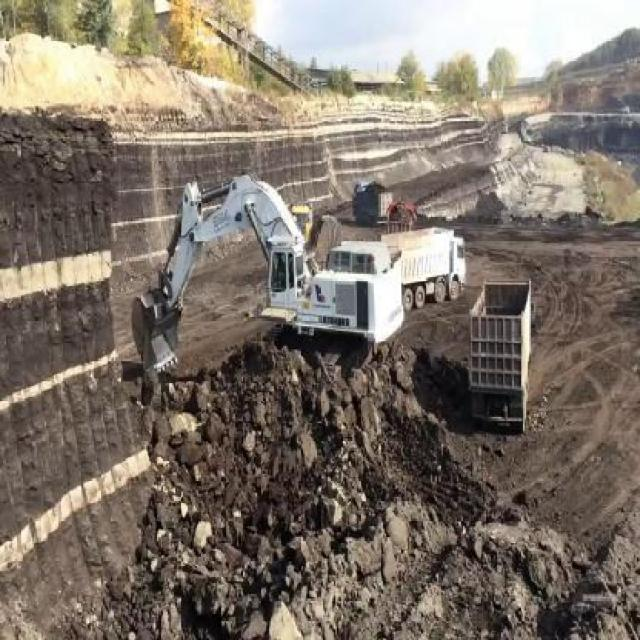Dump Truck: (467, 280, 531, 432), (406, 228, 465, 308), (351, 179, 392, 224)
Excavator: (128, 180, 402, 386)
